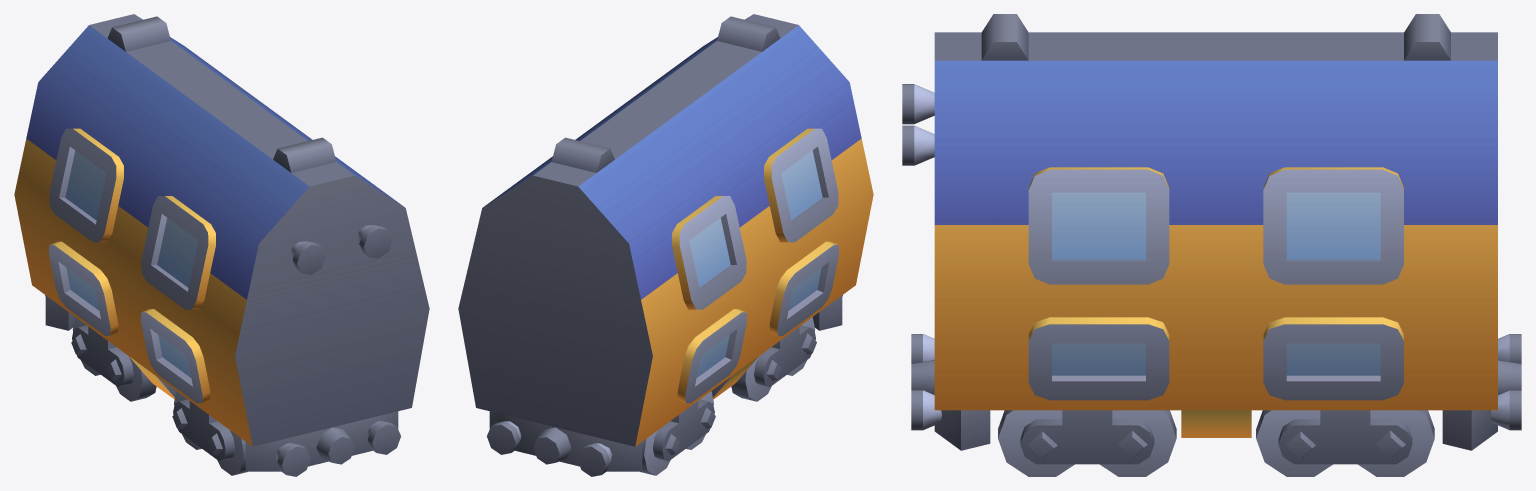
File: train-electric-double-b.glb
The picture shows the model from 3 angles, left to right: view 1: azimuth 30°, elevation 25°; view 2: azimuth 150°, elevation 25°; view 3: azimuth 270°, elevation 25°; orthographic projection. The views are drawn at different scales.
Parts seen in each view (by area): view 1: train-electric-double-b; view 2: train-electric-double-b; view 3: train-electric-double-b.
Boxes of the visible parts, x1,y1,x2,y2 form: train-electric-double-b: (14,14,429,476); train-electric-double-b: (458,14,873,476); train-electric-double-b: (902,14,1521,476).
Size of the model in its own units: 1.28 by 1.92 by 2.64.
Materials: 1 (1 with a texture image).
